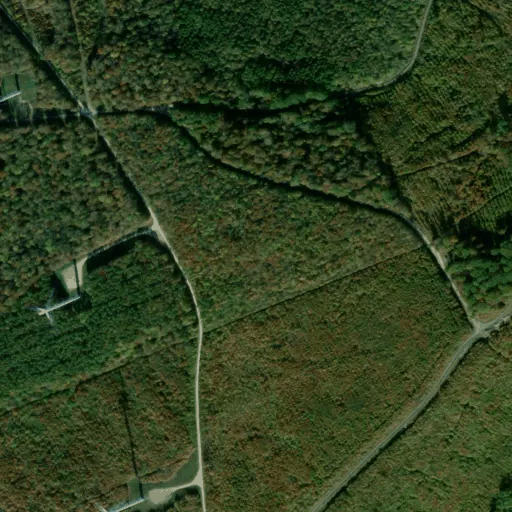wt: (105, 370, 151, 512), (33, 245, 95, 325), (60, 72, 108, 140), (1, 63, 31, 140)
